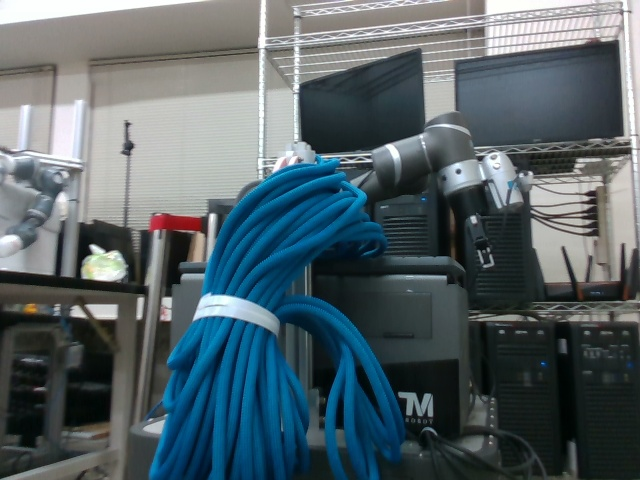rope: (147, 158, 408, 480)
